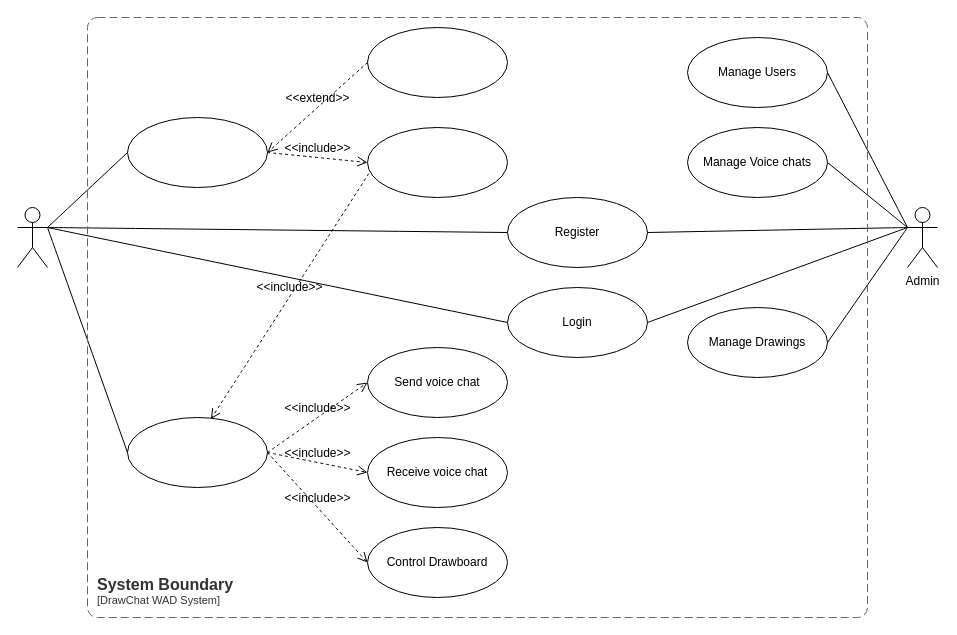
Some shapes in this 957 by 635 pixel diagram are drawn without their labels. Each missing label, with the centre of its shape:
"Create Room Info" belongs at (197,152).
"Join Room" belongs at (197,452).
"Share Room ID" belongs at (437,162).
"Update Room Info" belongs at (437,62).
"User" belongs at (32,237).
